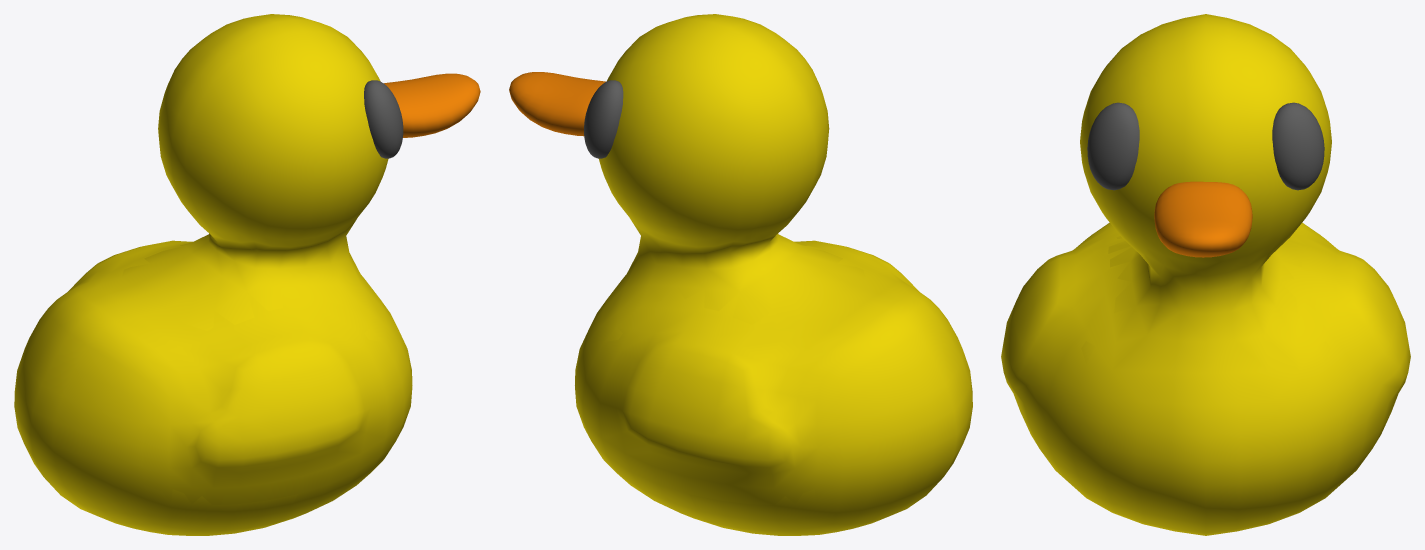
The model's file is Pato.fbx.
The picture shows the model from 3 angles, left to right: view 1: azimuth 30°, elevation 25°; view 2: azimuth 150°, elevation 25°; view 3: azimuth 270°, elevation 25°; orthographic projection. The views are drawn at different scales.
Visible parts, largest first — view 1: Pato; view 2: Pato; view 3: Pato.
Boxes of the visible parts, x1,y1,x2,y2 form: Pato: (14, 14, 480, 535); Pato: (509, 14, 972, 535); Pato: (1001, 14, 1410, 535).
Bounding box in the file's own units: 391 × 402 × 291.
